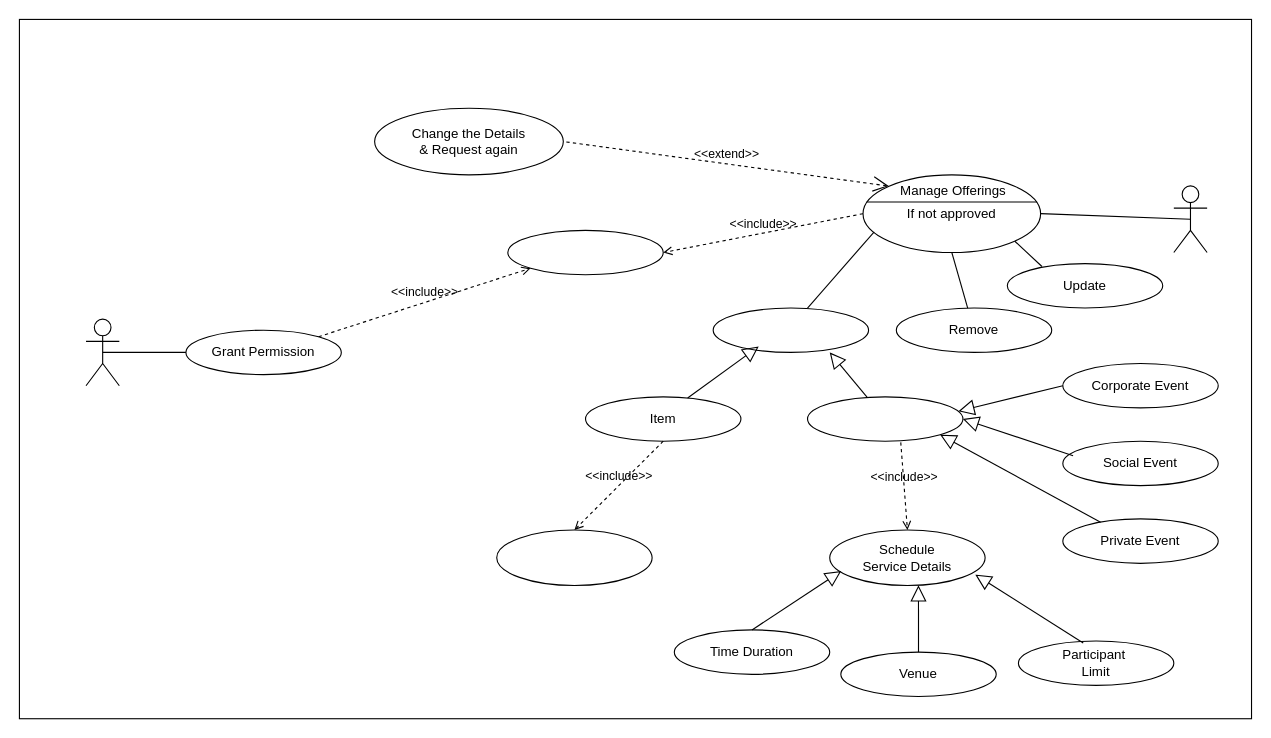
The diagram is 1271 pixels wide and 738 high, and some of its shapes have lost their labels. The shapes that lost their labels are listed below. From the top down, each one's centre as x and y in pixels, then its label:
At pixel 1190 219: "Vendor".
At pixel 585 252: "Request Authorization".
At pixel 790 329: "Add".
At pixel 102 352: "Manager".
At pixel 884 418: "Service".
At pixel 574 557: "Add item to Shopping Cart".
